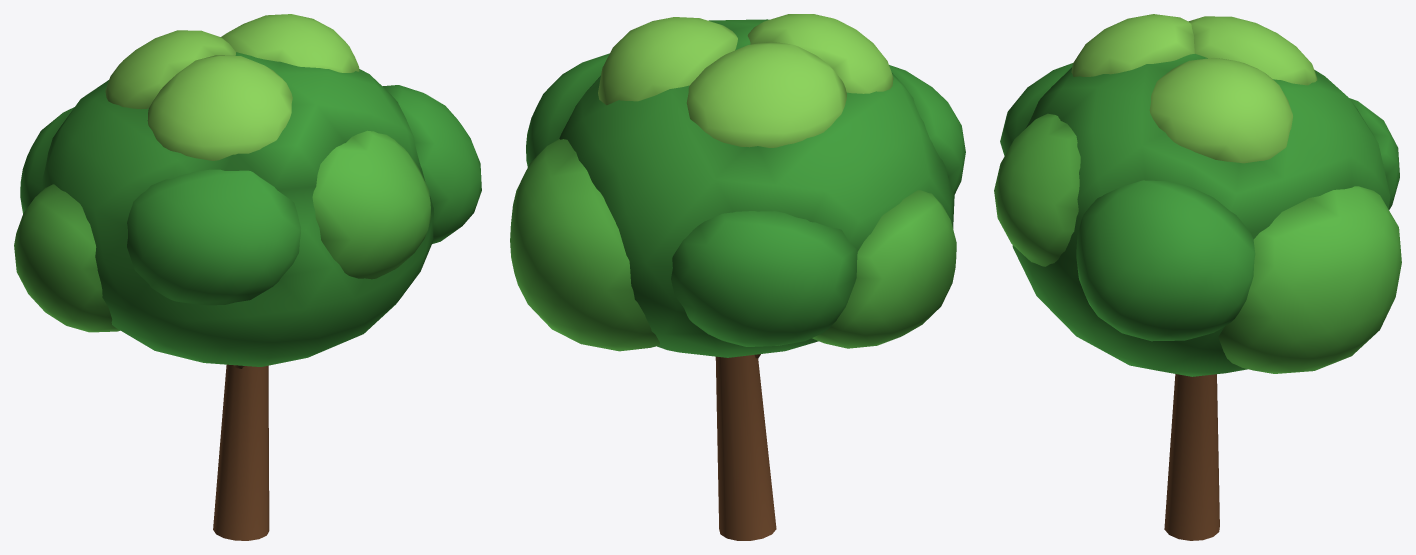
The model's file is vl_tree2.glb.
3 renders of one model, left to right at view 1: azimuth 30°, elevation 25°; view 2: azimuth 150°, elevation 25°; view 3: azimuth 270°, elevation 25°, orthographic. The views are drawn at different scales.
Parts seen in each view (by area): view 1: tree.001; view 2: tree.001; view 3: tree.001.
Part boxes in pixels (x1,y1,x2,y2): tree.001: (14,14,481,540); tree.001: (510,14,965,540); tree.001: (994,14,1401,540).
Bounding box in the file's own units: 4.12 × 4.61 × 3.47.
